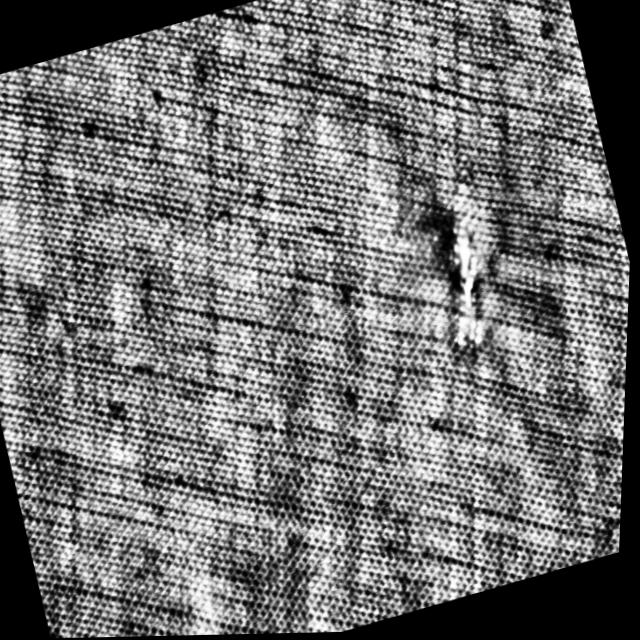Hole: (410, 160, 526, 368)
